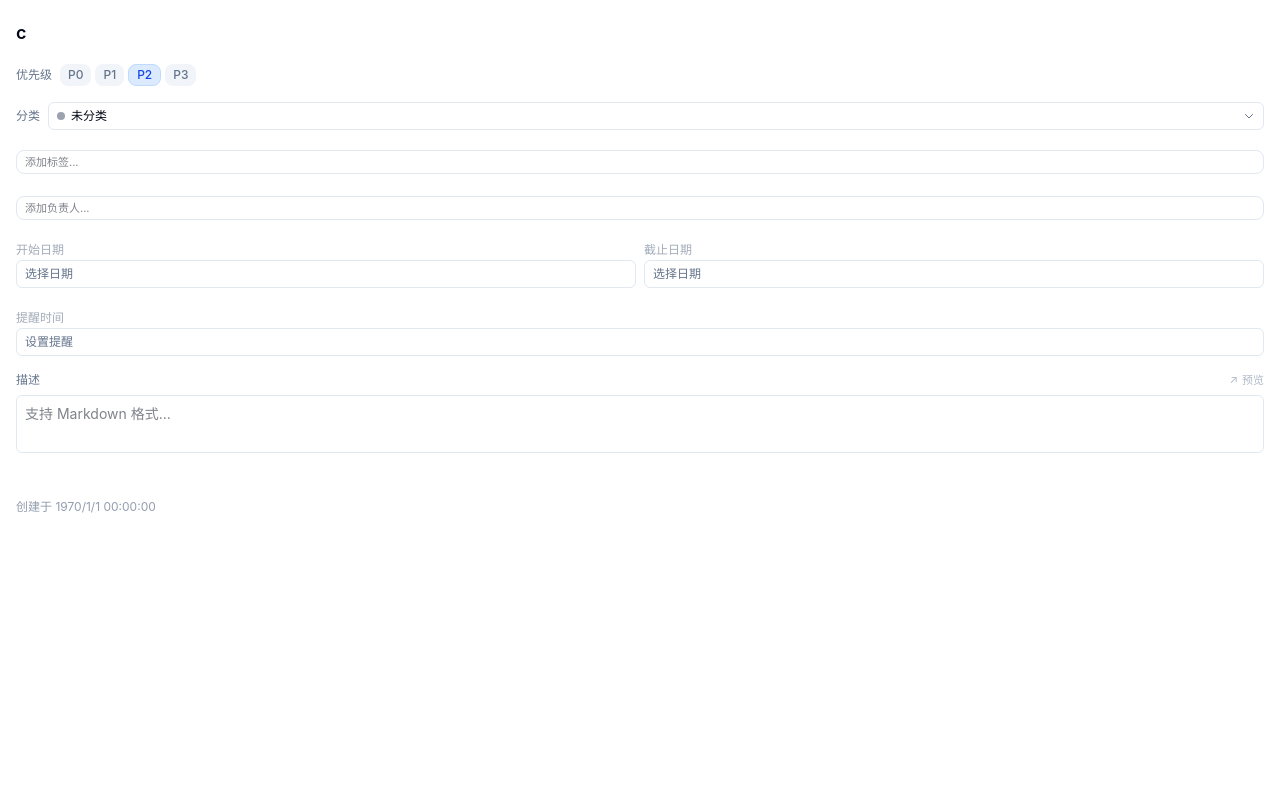
Scenario: DetailPanel 子任务日期选择器越界置灰 › 打开子任务截止日期选择器：父范围外日期禁用、界内可用
Click the button "选择日期" below "截止日期" at (677, 274), box [644, 260, 1264, 288]
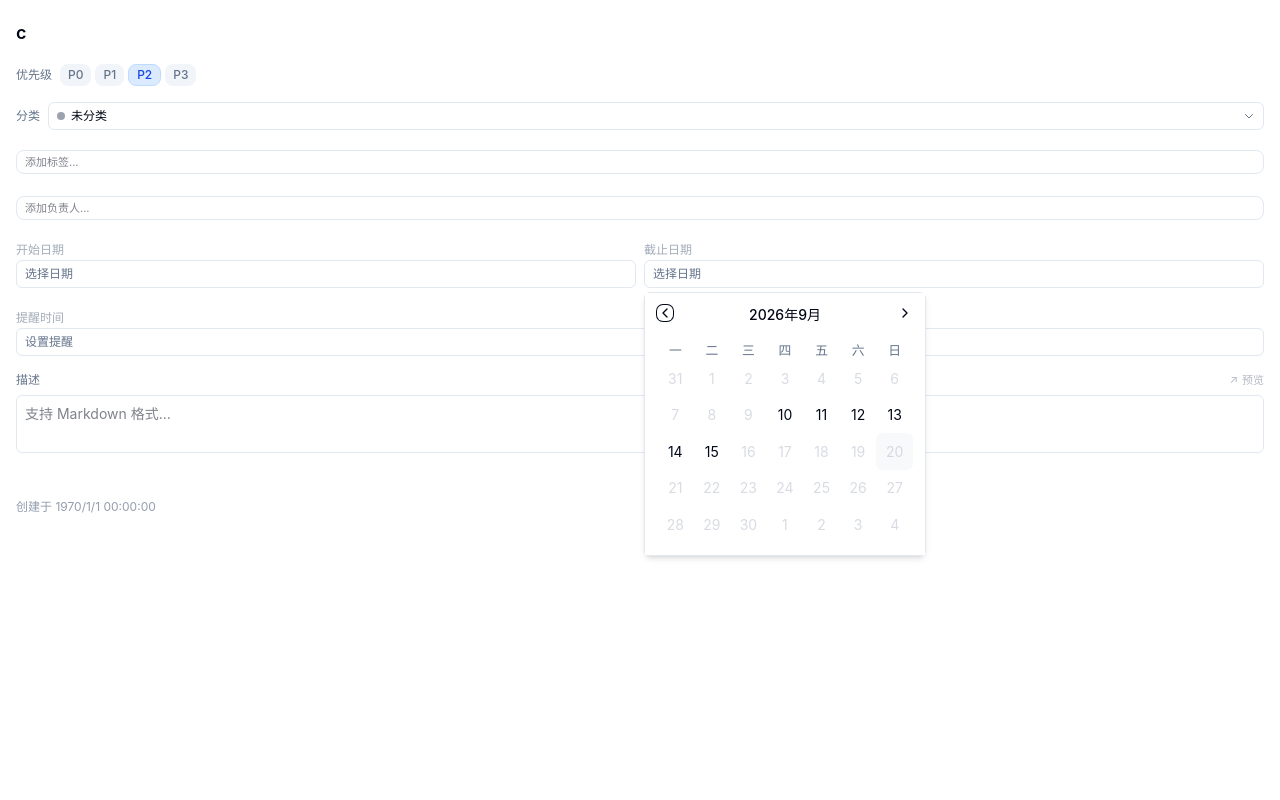
Expected: the table is shown, [657, 341, 913, 543]
